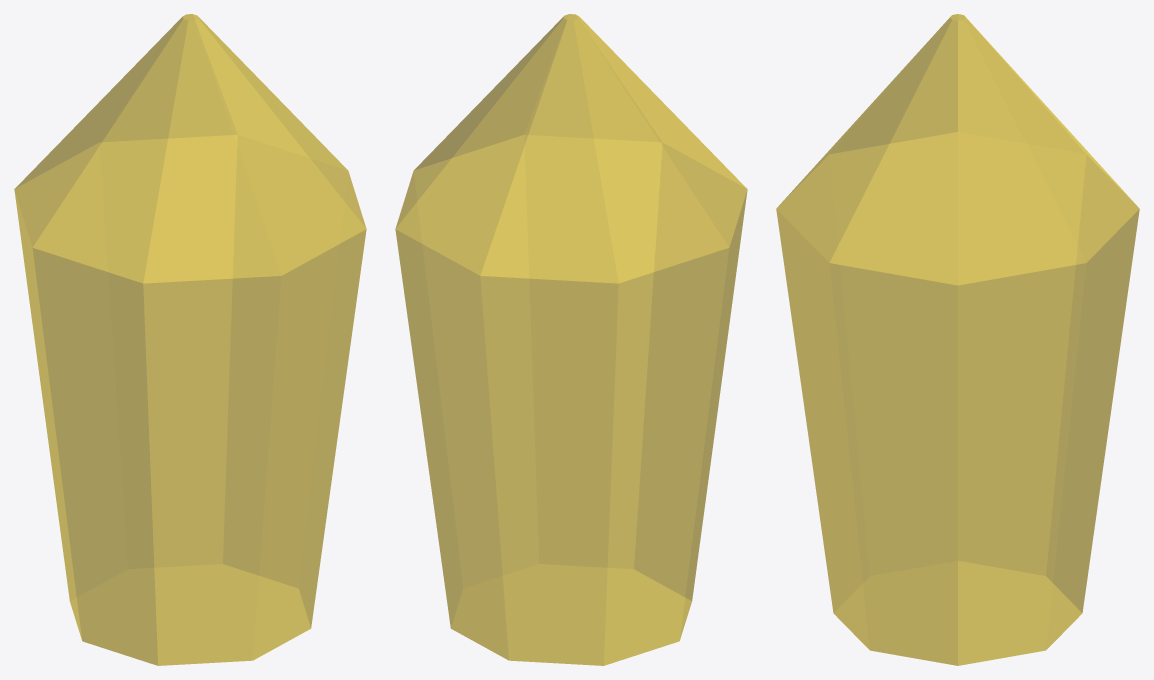
The model's file is GElbKristall.glb.
The picture shows the model from 3 angles, left to right: view 1: azimuth 30°, elevation 25°; view 2: azimuth 150°, elevation 25°; view 3: azimuth 270°, elevation 25°; orthographic projection.
Parts seen in each view (by area): view 1: Circle.019; view 2: Circle.019; view 3: Circle.019.
Boxes of the visible parts, x1,y1,x2,y2 form: Circle.019: (14,14,366,665); Circle.019: (395,14,747,665); Circle.019: (776,14,1139,665).
Size of the model in its own units: 0.5681 by 1.03 by 0.5681.
